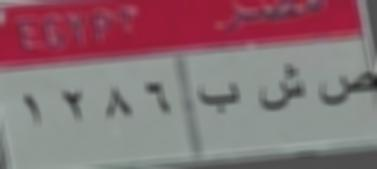1: (21, 86, 44, 134)
2: (59, 83, 90, 129)
6: (144, 75, 175, 120)
8: (100, 78, 133, 128)
baa: (195, 80, 242, 118)
saad: (316, 64, 377, 110)
sheen: (256, 62, 308, 118)
